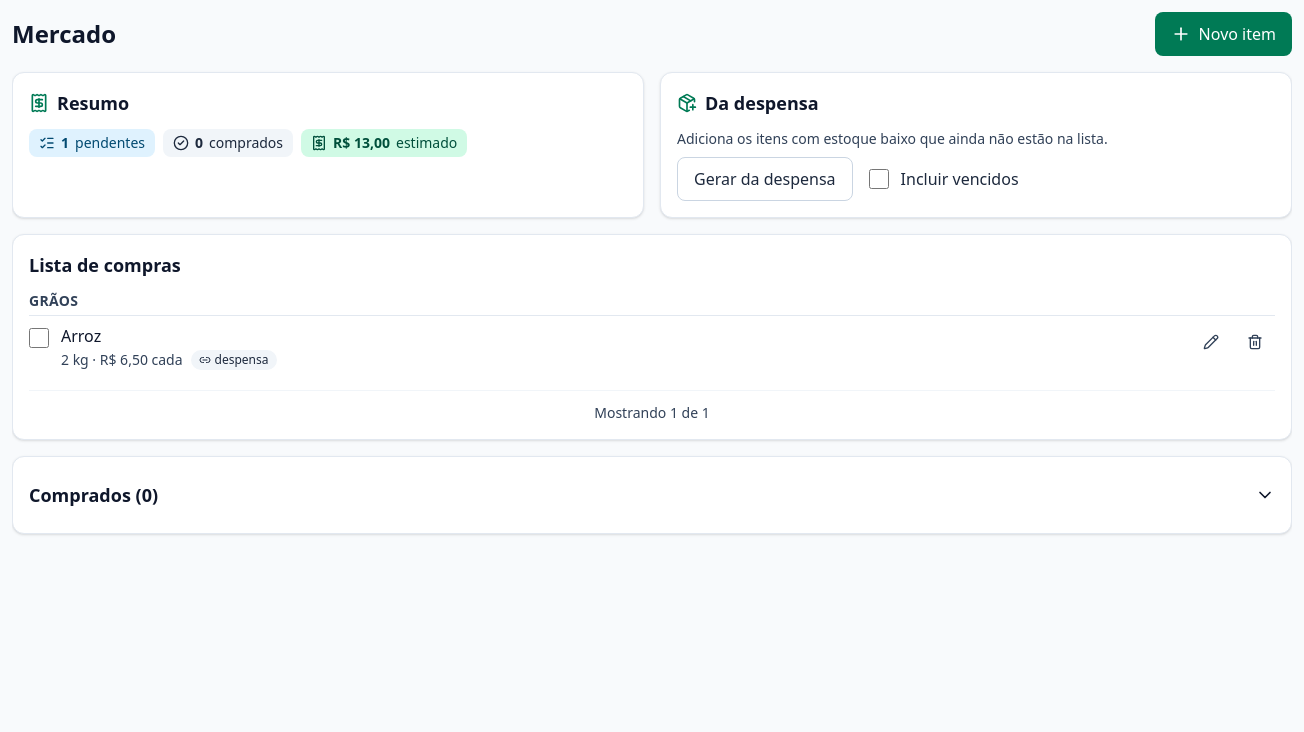
it: ShoppingPage › 'Gerar da despensa' with 200 and [] says there is nothing to add
Expected: the button "Arroz" is shown, [61,324,101,348]
Step 1. Click the checkbox labelled "Incluir vencidos" → (879, 179), box [869,169,889,189]
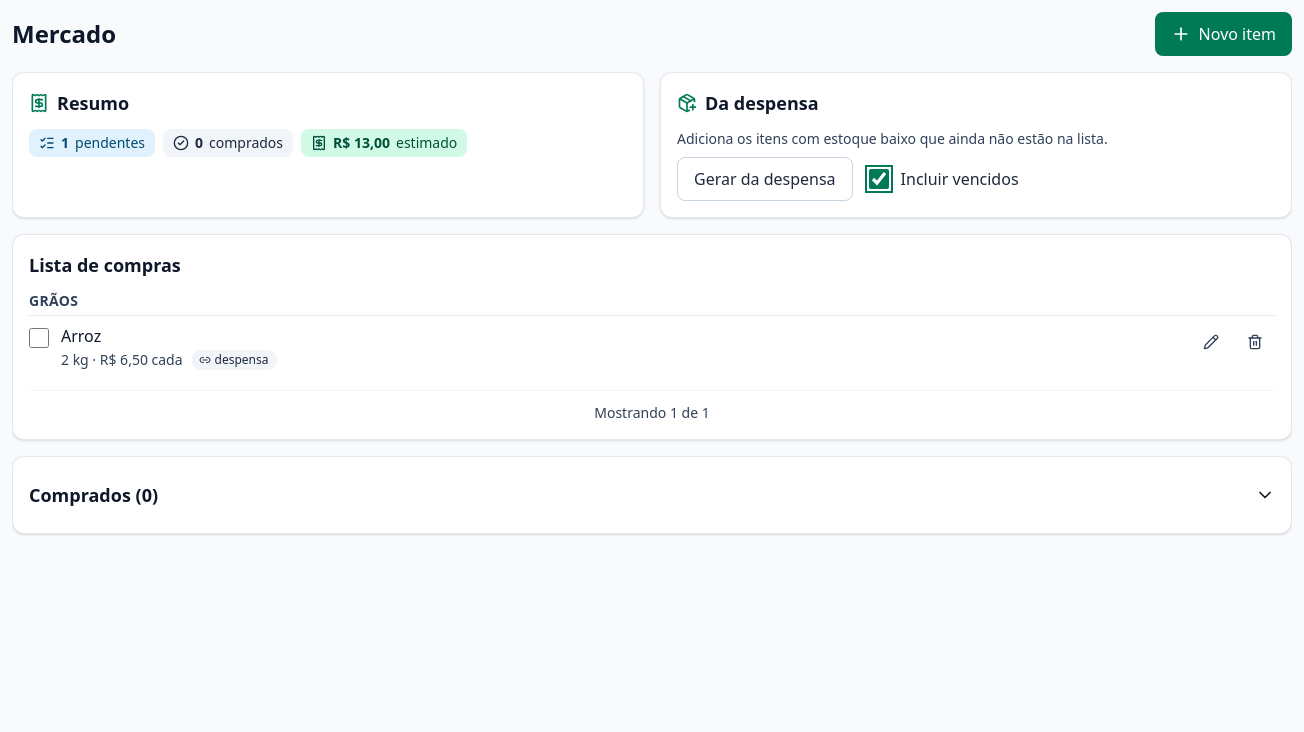
Step 2. Click the button "Gerar da despensa" → (765, 179), box [677,157,853,201]
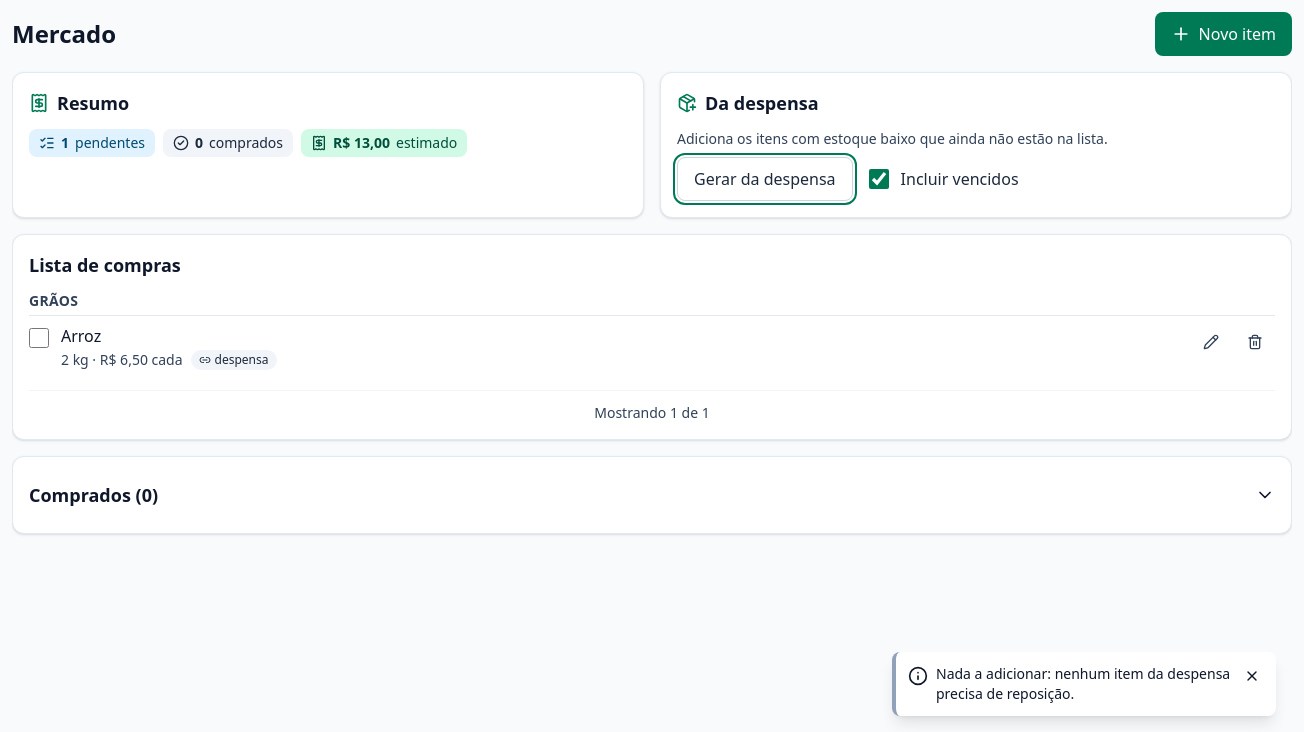
Expected: the text "Nada a adicionar" is shown, [936,664,1230,703]
